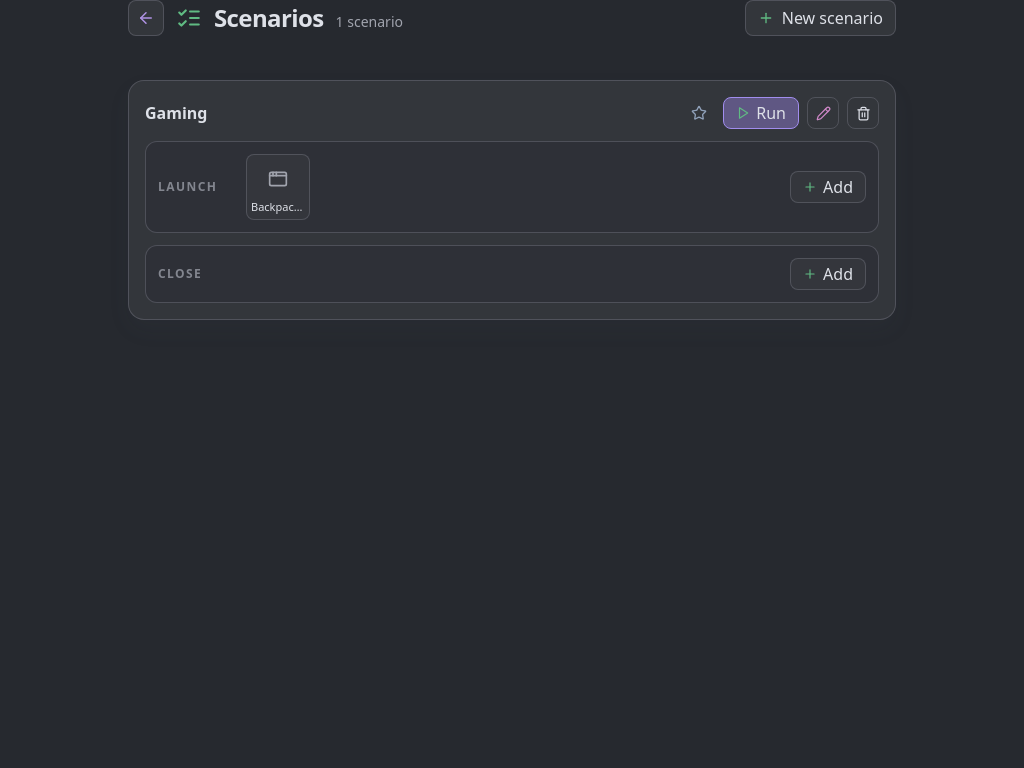
Scenario: ScenariosPage › adds the same component to the launch list without asking
The width and height of the screenshot is (1024, 768).
Click the button named "Add an app to the Launch list of Gaming" at (828, 187), box [790, 171, 866, 203]
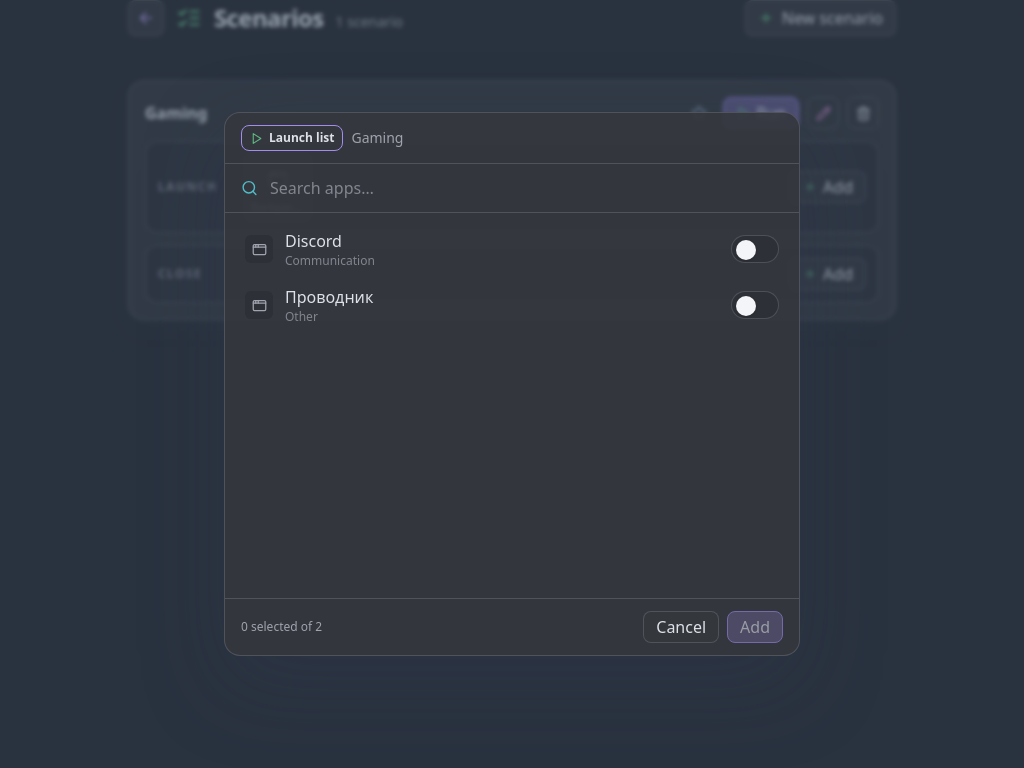
Click the switch labelled "Проводник Other" at (329, 297), box [233, 277, 791, 333]
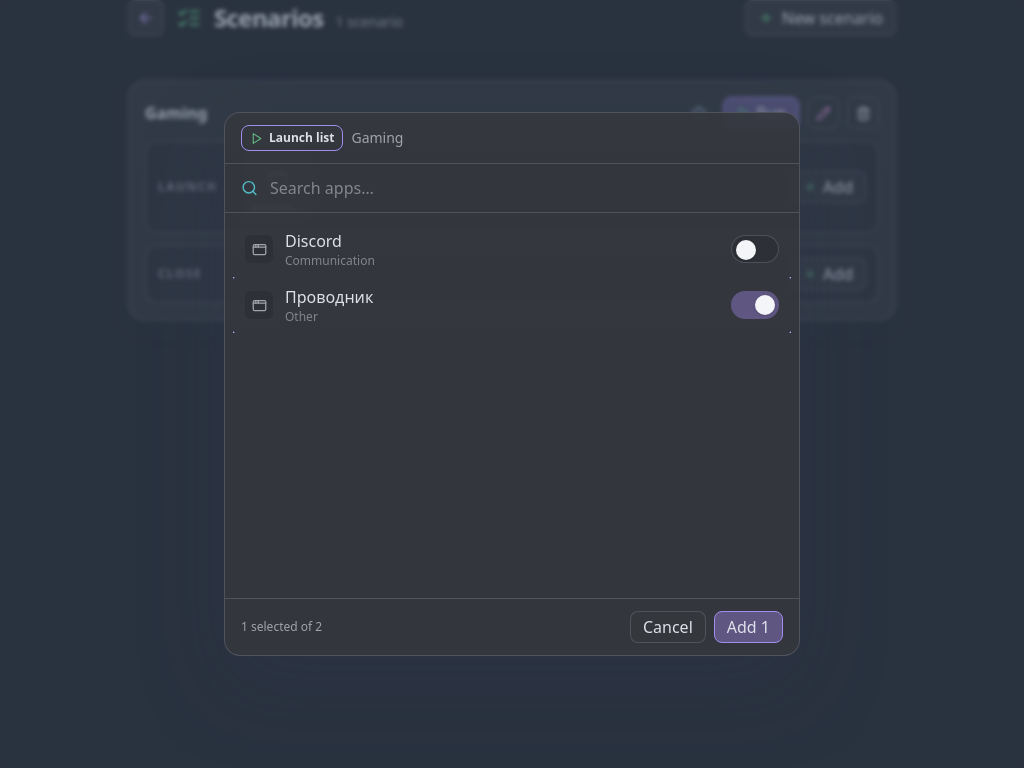
Click the button "Add 1" at (748, 627), box [714, 611, 783, 643]
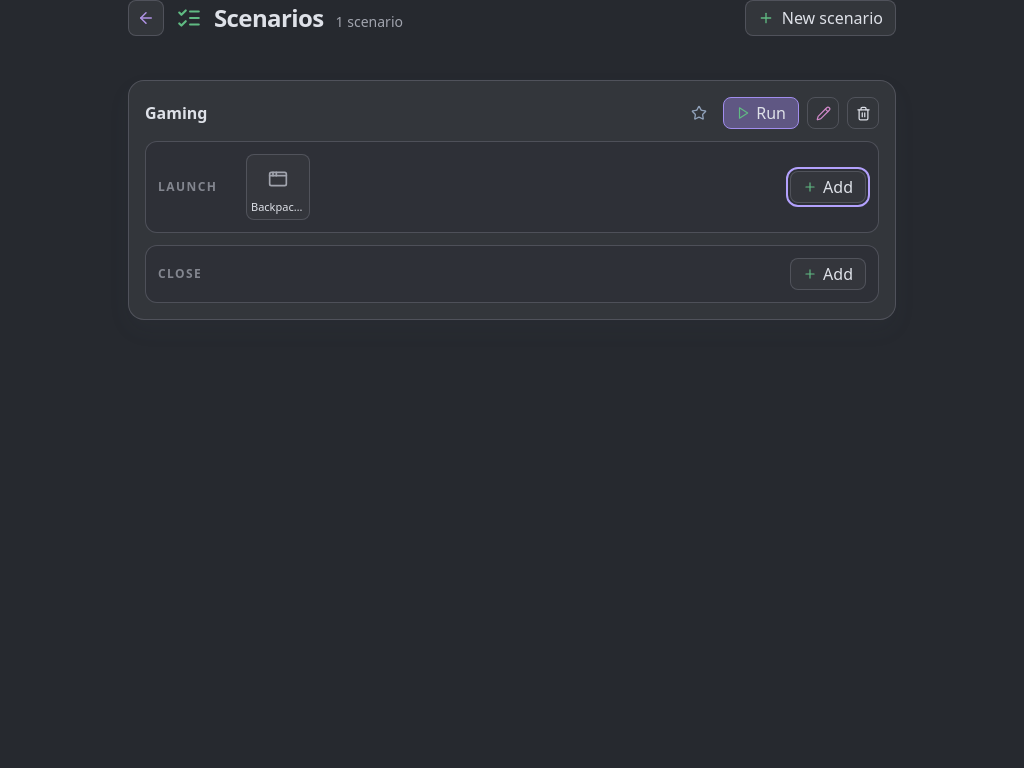
expect the dialog is gone: met
